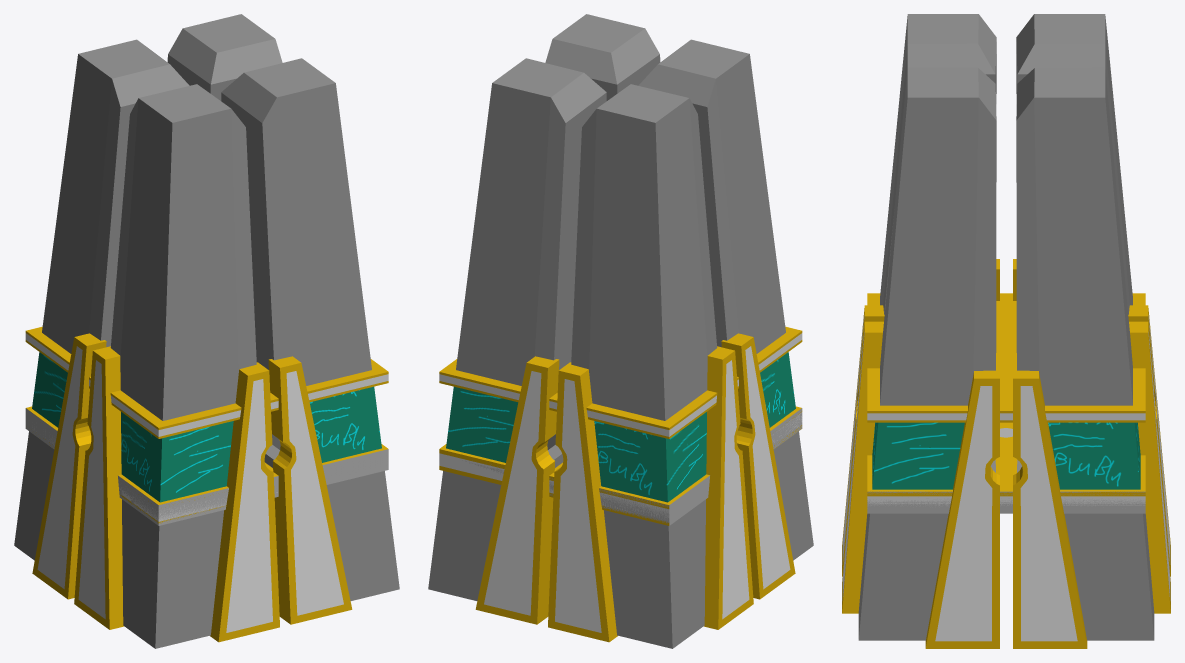
The model's file is ArxCutOut.fbx.
The picture shows the model from 3 angles, left to right: view 1: azimuth 30°, elevation 25°; view 2: azimuth 150°, elevation 25°; view 3: azimuth 270°, elevation 25°; orthographic projection. The views are drawn at different scales.
Parts seen in each view (by area): view 1: TopBlock2, TopSideTriangles, TopBlock3, TopBlock4, TopBlock, TopHorizontalBlock, TopHorizontalBlock1, polySurface39; view 2: TopBlock4, TopSideTriangles, TopBlock, TopBlock2, TopBlock3, TopHorizontalBlock, polySurface39, TopHorizontalBlock1; view 3: TopBlock3, TopBlock, TopSideTriangles, TopHorizontalBlock, TopBlock4, TopBlock2, polySurface39, TopHorizontalBlock1.
Boxes of the visible parts, <box> form: TopBlock2: <box>110,84,256,648</box>; TopSideTriangles: <box>32,333,352,642</box>; TopBlock3: <box>221,58,399,600</box>; TopBlock4: <box>14,39,189,560</box>; TopBlock: <box>167,14,282,100</box>; TopHorizontalBlock: <box>25,326,388,438</box>; TopHorizontalBlock1: <box>25,408,388,525</box>; polySurface39: <box>26,406,387,523</box>; TopBlock4: <box>571,84,717,648</box>; TopSideTriangles: <box>475,333,795,642</box>; TopBlock: <box>428,58,606,600</box>; TopBlock2: <box>638,39,813,560</box>; TopBlock3: <box>545,14,660,100</box>; TopHorizontalBlock: <box>439,326,802,438</box>; polySurface39: <box>439,406,802,525</box>; TopHorizontalBlock1: <box>462,408,802,525</box>; TopBlock3: <box>858,67,996,640</box>; TopBlock: <box>1016,67,1154,640</box>; TopSideTriangles: <box>842,259,1170,648</box>; TopHorizontalBlock: <box>867,293,1145,422</box>; TopBlock4: <box>1016,14,1132,314</box>; TopBlock2: <box>880,14,996,314</box>; polySurface39: <box>867,422,1145,506</box>; TopHorizontalBlock1: <box>867,428,1145,513</box>.
Size of the model in its own units: 50804 by 89302 by 50804.
